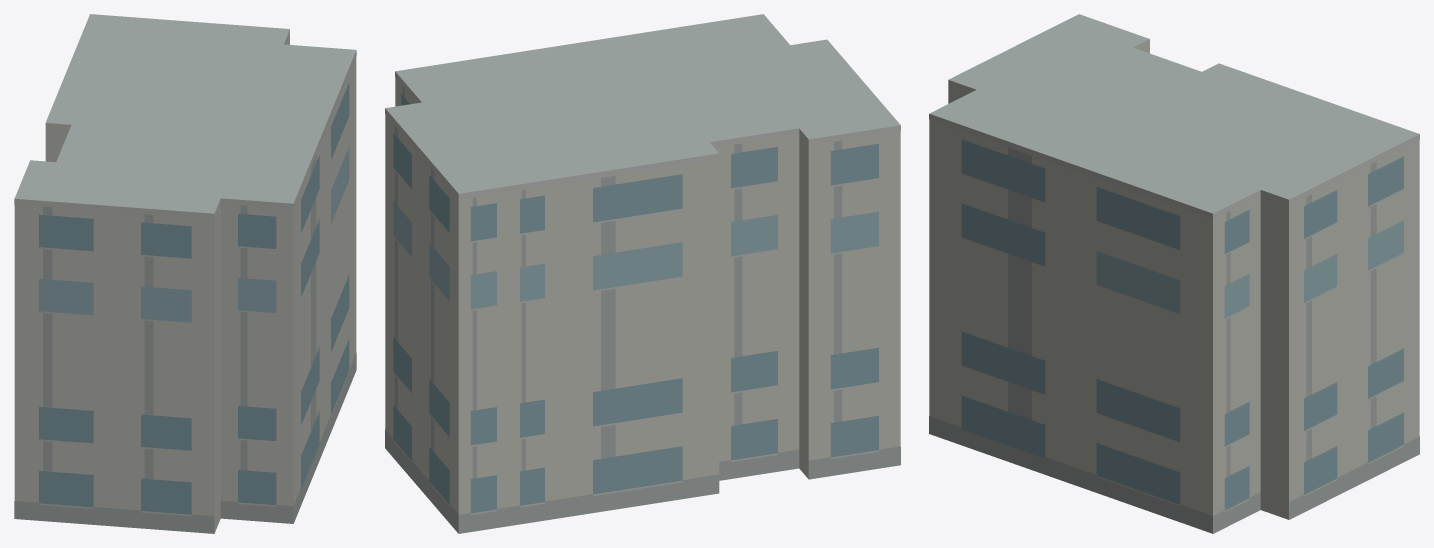
The model's file is survey-upis-32609748.glb.
3 views of the same model, side by side, from view 1: azimuth 30°, elevation 25°; view 2: azimuth 150°, elevation 25°; view 3: azimuth 270°, elevation 25° (orthographic). The views are drawn at different scales.
Parts seen in each view (by area): view 1: survey-upis-32609748.tmp; view 2: survey-upis-32609748.tmp; view 3: survey-upis-32609748.tmp.
Boxes of the visible parts, left/top/right/bottom form: survey-upis-32609748.tmp: left=14, top=14, right=356, bottom=533; survey-upis-32609748.tmp: left=385, top=14, right=900, bottom=533; survey-upis-32609748.tmp: left=929, top=14, right=1419, bottom=533.
Bounding box in the file's own units: 17.92 × 13.4 × 18.61.
